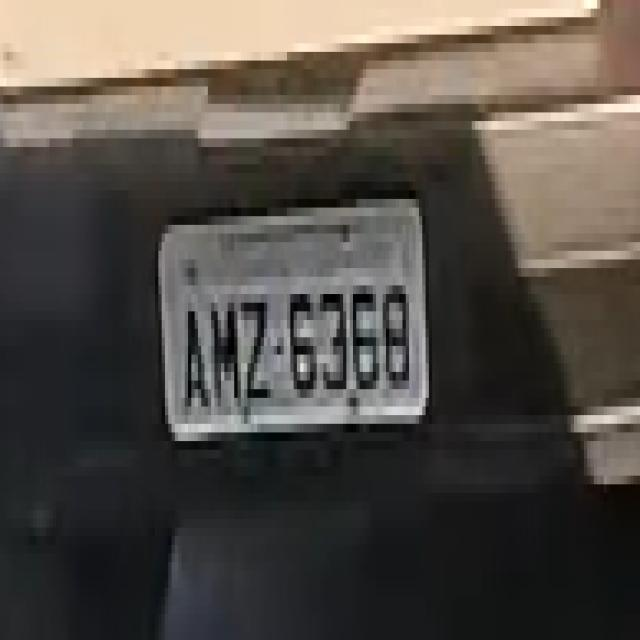Placa_mercosul_carro: (158, 197, 430, 443)
